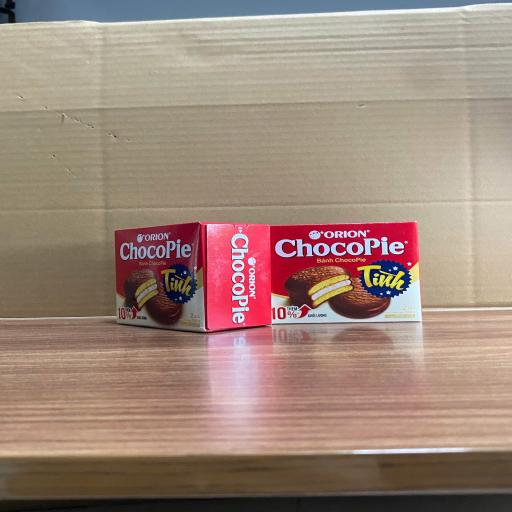chocopie: (115, 223, 270, 334), (271, 225, 422, 323)
